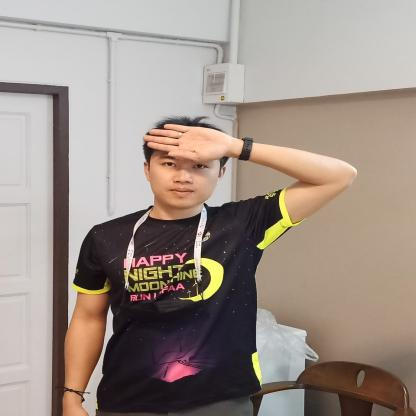Sick: (142, 118, 367, 212)
